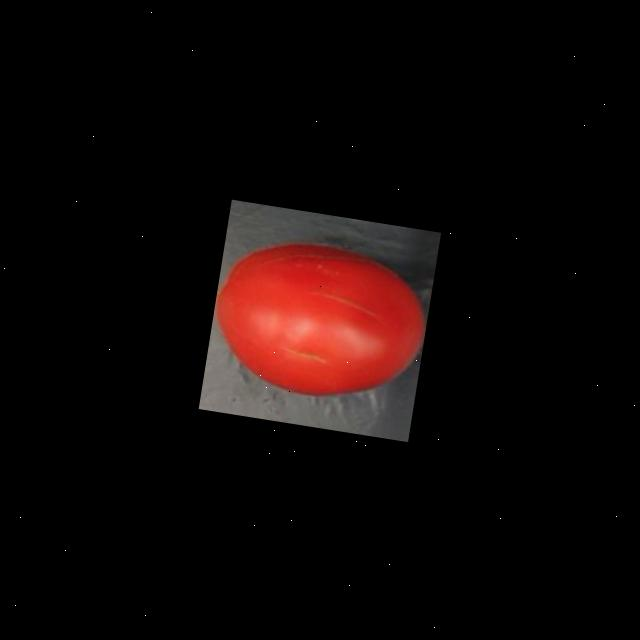tomato: (202, 223, 438, 418)
